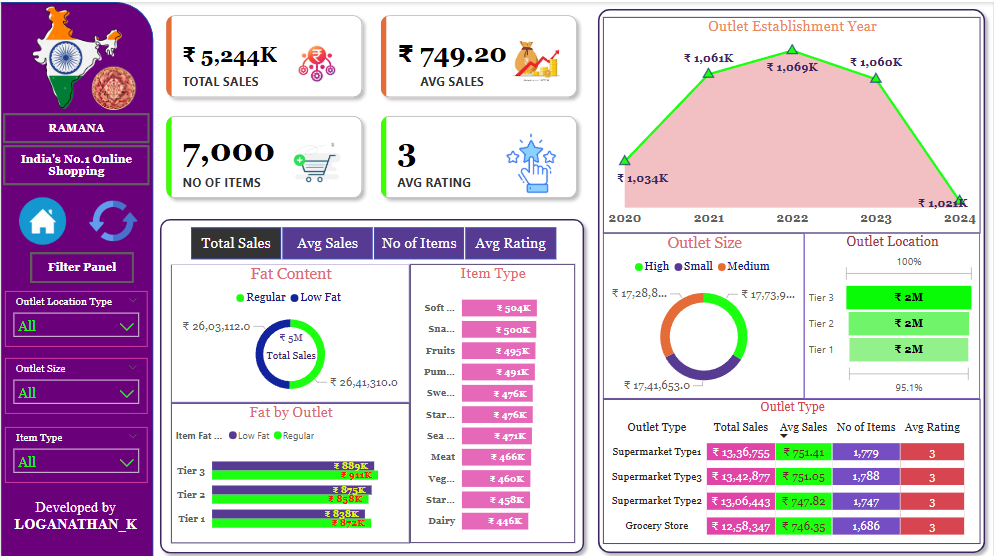

The page's visual inventory and layout, read from the dashboard file:
{"tool":"powerbi","page":{"name":"RAMANA","canvas":[1280,720],"ordinal":0},"visuals":[{"type":"shape","box":[0,0,196.6,720],"z":0},{"type":"image","box":[0,0,196.6,151.8],"z":1000},{"type":"cardVisual","fields":{"Data":["Ramana Online Shopping.Total Sales","Ramana Online Shopping.Avg Sales","Ramana Online Shopping.No of Items","Ramana Online Shopping.Avg Rating"]},"box":[196.6,0,565.3,270.4],"z":2000},{"type":"shape","box":[196.6,270.4,565.3,449.6],"z":3000},{"type":"donutChart","title":"Fat Content","fields":{"Y":["Ramana Online Shopping.Total Sales"],"Category":["Ramana Online Shopping.Item Fat Content"]},"box":[219.8,338.3,308,179.3],"z":4000},{"type":"slicer","fields":{"Values":["Metrics.Metrics"]},"box":[219.8,283.4,520.5,54.9],"z":5000},{"type":"cardVisual","fields":{"Data":["Ramana Online Shopping.Total Sales"]},"box":[274.7,360,199.5,169.2],"z":6000},{"type":"clusteredBarChart","title":"Fat by Outlet","fields":{"Y":["Ramana Online Shopping.Total Sales"],"Category":["Ramana Online Shopping.Outlet Location Type"],"Series":["Ramana Online Shopping.Item Fat Content"]},"box":[219.8,517.6,308,180.7],"z":7000},{"type":"barChart","title":"Item Type","fields":{"Y":["Ramana Online Shopping.Total Sales"],"Category":["Ramana Online Shopping.Item Type"]},"box":[527.7,338.3,212.5,360],"z":8000},{"type":"shape","box":[761.9,0,517.6,720],"z":9000},{"type":"lineChart","title":"Outlet Establishment Year","fields":{"Category":["Ramana Online Shopping.Outlet Establishment Year"],"Y":["Ramana Online Shopping.Total Sales"]},"box":[776.4,18.8,487.2,279],"z":10000},{"type":"donutChart","title":"Outlet Size","fields":{"Y":["Ramana Online Shopping.Total Sales"],"Category":["Ramana Online Shopping.Outlet Size"]},"box":[776.4,297.8,260.2,214],"z":11000},{"type":"funnel","title":"Outlet Location","fields":{"Y":["Ramana Online Shopping.Total Sales"],"Category":["Ramana Online Shopping.Outlet Location Type"]},"box":[1036.6,297.8,227,214],"z":12000},{"type":"pivotTable","title":"Outlet Type","fields":{"Rows":["Ramana Online Shopping.Outlet Type"],"Values":["Ramana Online Shopping.Total Sales","Ramana Online Shopping.Avg Sales","Ramana Online Shopping.No of Items","Ramana Online Shopping.Avg Rating"]},"box":[776.4,511.8,487.2,186.5],"z":13000},{"type":"slicer","fields":{"Values":["Ramana Online Shopping.Outlet Location Type"]},"box":[5.8,373,183.6,72.3],"z":14000},{"type":"slicer","fields":{"Values":["Ramana Online Shopping.Outlet Size"]},"box":[5.8,459.8,183.6,72.3],"z":15000},{"type":"slicer","fields":{"Values":["Ramana Online Shopping.Item Type"]},"box":[5.8,548,183.6,72.3],"z":16000},{"type":"actionButton","box":[37.6,322.4,134.5,40.5],"z":17000},{"type":"actionButton","box":[2.9,143.1,189.4,39],"z":18000},{"type":"actionButton","box":[2.9,185.1,189.4,52],"z":19000},{"type":"image","box":[53.5,70.8,183.6,81],"z":20000},{"type":"image","box":[106,246.1,78.6,71.8],"z":21000},{"type":"image","box":[7.2,242.9,91.1,79.5],"z":22000},{"type":"textbox","box":[7.2,636.1,177.8,62.2],"z":23000}]}

Visuals, with their boxes in screenshot pixels (x1, y1, x2, y2), scaled from the page's 1280x720 canvas onto the 994x556 screenshot:
shape: l=0, t=0, r=153, b=555
image: l=0, t=0, r=153, b=117
cardVisual - Ramana Online Shopping.Total Sales x Ramana Online Shopping.Avg Sales: l=153, t=0, r=592, b=209
shape: l=153, t=209, r=592, b=555
"Fat Content" donutChart: l=171, t=261, r=410, b=400
slicer - Metrics.Metrics: l=171, t=219, r=575, b=261
cardVisual - Ramana Online Shopping.Total Sales: l=213, t=278, r=368, b=409
"Fat by Outlet" clusteredBarChart: l=171, t=400, r=410, b=539
"Item Type" barChart: l=410, t=261, r=575, b=539
shape: l=592, t=0, r=993, b=555
"Outlet Establishment Year" lineChart: l=603, t=15, r=981, b=230
"Outlet Size" donutChart: l=603, t=230, r=805, b=395
"Outlet Location" funnel: l=805, t=230, r=981, b=395
"Outlet Type" pivotTable: l=603, t=395, r=981, b=539
slicer - Ramana Online Shopping.Outlet Location Type: l=5, t=288, r=147, b=344
slicer - Ramana Online Shopping.Outlet Size: l=5, t=355, r=147, b=411
slicer - Ramana Online Shopping.Item Type: l=5, t=423, r=147, b=479
actionButton: l=29, t=249, r=134, b=280
actionButton: l=2, t=111, r=149, b=141
actionButton: l=2, t=143, r=149, b=183
image: l=42, t=55, r=184, b=117
image: l=82, t=190, r=143, b=245
image: l=6, t=188, r=76, b=249
textbox: l=6, t=491, r=144, b=539
